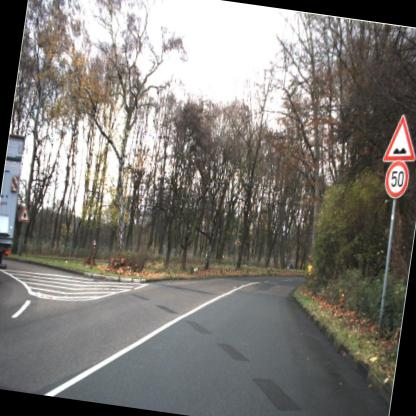danger: (379, 108, 415, 171), (18, 199, 32, 224)
prohibitory: (381, 160, 410, 201)
